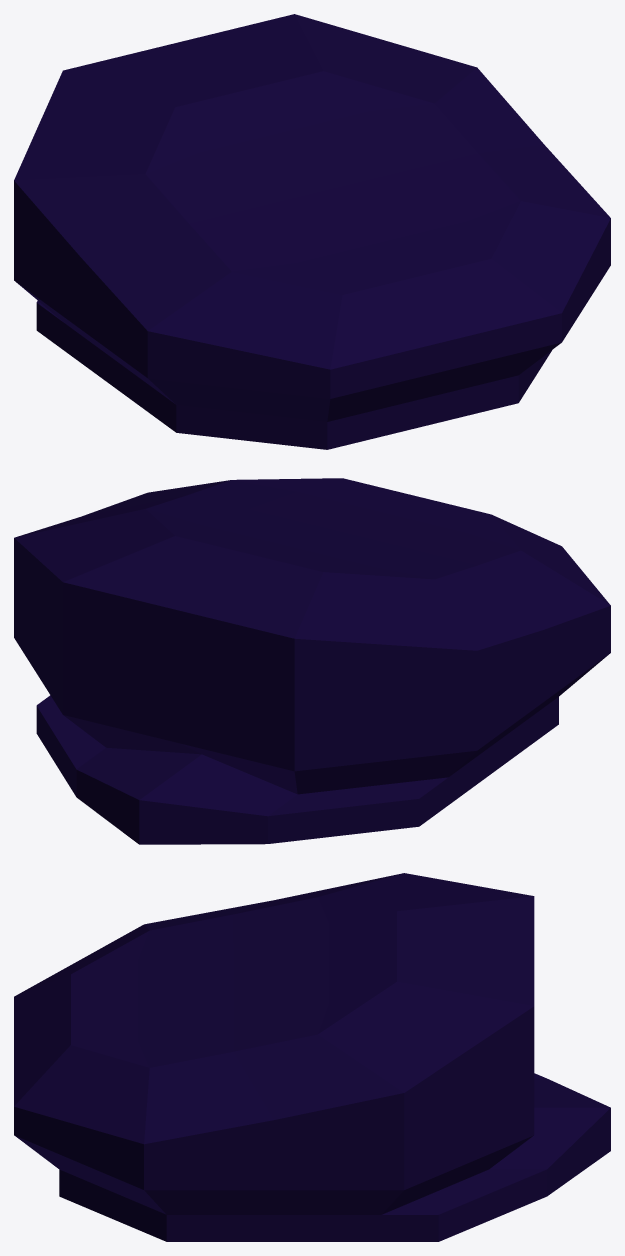
Rendered from cop_hat.glb.
The picture shows the model from 3 angles, top to bottom: view 1: azimuth 30°, elevation 25°; view 2: azimuth 150°, elevation 25°; view 3: azimuth 270°, elevation 25°; orthographic projection. The views are drawn at different scales.
Visible parts, largest first — view 1: Plane; view 2: Plane; view 3: Plane.
Part boxes in pixels (x1,y1,x2,y2): Plane: (14,14,610,449); Plane: (14,478,610,844); Plane: (14,873,610,1241).
Bounding box in the file's own units: 2.42 × 1.05 × 2.78.
